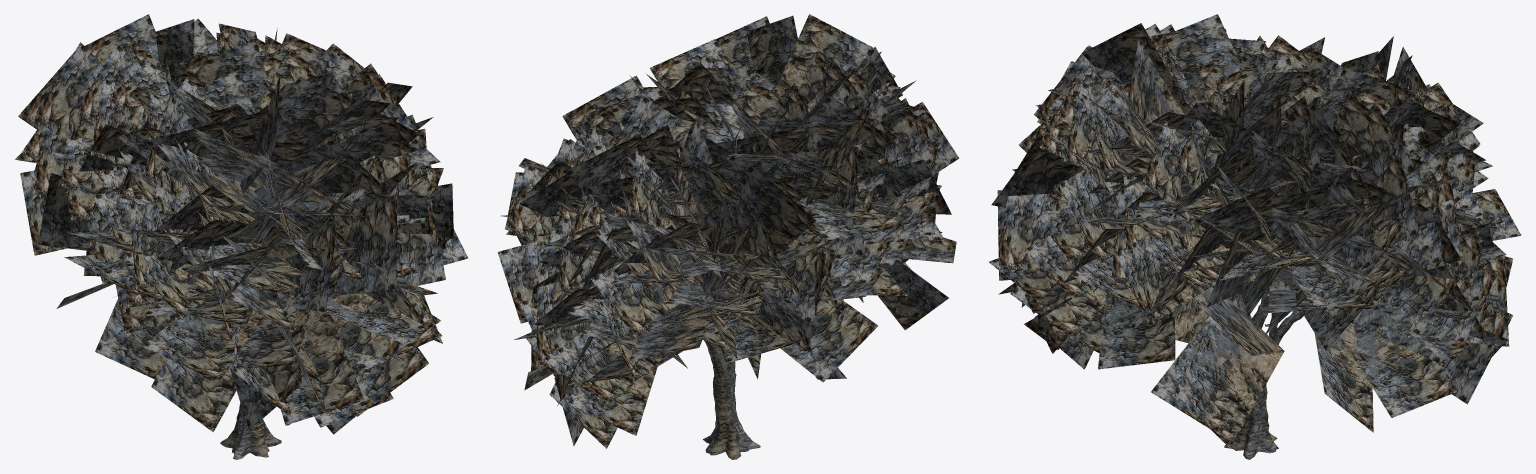
File: palo_fierro.fbx
3 views of the same model, side by side, from view 1: azimuth 30°, elevation 25°; view 2: azimuth 150°, elevation 25°; view 3: azimuth 270°, elevation 25° (orthographic). The views are drawn at different scales.
Parts seen in each view (by area): view 1: Object_7, Object_3, Object_6, Object_5, Object_8, Object_4, Object_2; view 2: Object_3, Object_5, Object_6, Object_7, Object_4, Object_8, Object_2; view 3: Object_7, Object_5, Object_6, Object_8, Object_4, Object_3, Object_2.
Boxes of the visible parts, x1,y1,x2,y2 form: Object_7: (20, 35, 453, 425); Object_3: (18, 14, 468, 432); Object_6: (56, 32, 443, 430); Object_5: (15, 19, 445, 434); Object_8: (33, 43, 451, 361); Object_4: (34, 18, 445, 427); Object_2: (220, 403, 281, 459); Object_3: (497, 15, 948, 404); Object_5: (508, 52, 959, 435); Object_6: (505, 16, 956, 446); Object_7: (501, 39, 942, 385); Object_4: (506, 14, 944, 448); Object_8: (531, 46, 951, 399); Object_2: (703, 340, 760, 459); Object_7: (991, 35, 1512, 448); Object_5: (989, 14, 1492, 417); Object_6: (998, 32, 1512, 404); Object_8: (1010, 23, 1521, 434); Object_4: (1019, 23, 1508, 364); Object_3: (1029, 24, 1506, 355); Object_2: (1211, 285, 1303, 459).
Bounding box in the file's own units: 1122 × 1214 × 1431.
Materials: 7 (7 with a texture image).
